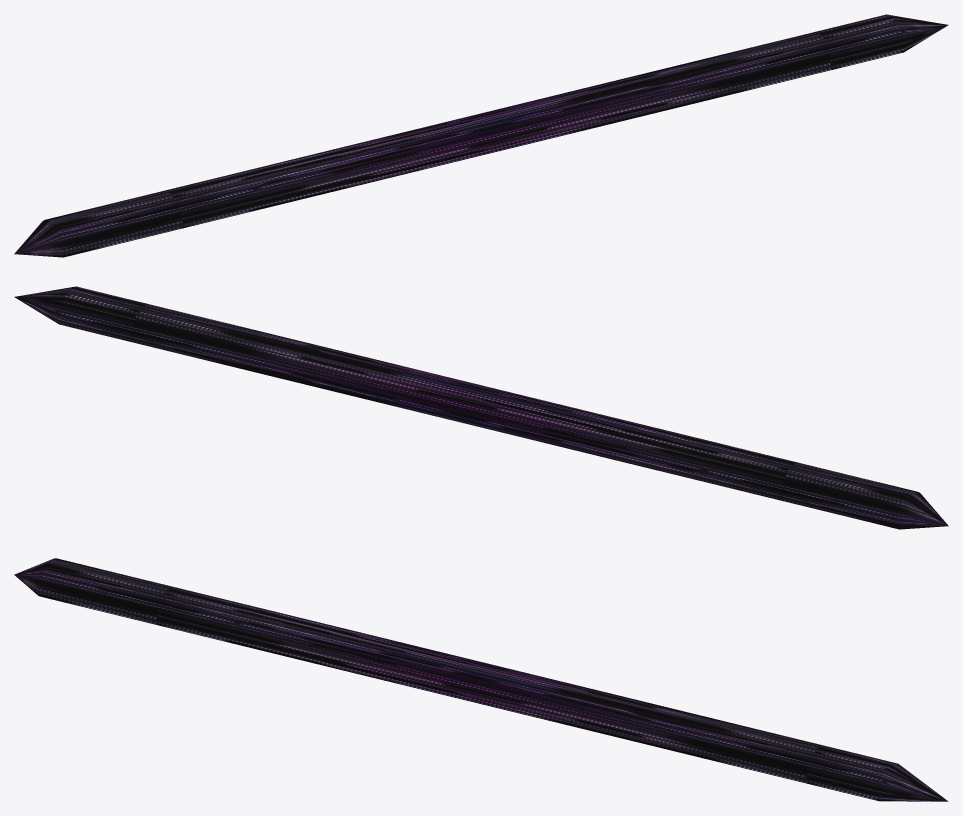
Rendered from tunnel.glb.
The picture shows the model from 3 angles, top to bottom: view 1: azimuth 30°, elevation 25°; view 2: azimuth 150°, elevation 25°; view 3: azimuth 330°, elevation 25°; orthographic projection.
Visible parts, largest first — view 1: tunnel; view 2: tunnel; view 3: tunnel.
Part boxes in pixels (left/top/right/bottom): tunnel: left=14, top=14, right=948, bottom=257; tunnel: left=14, top=286, right=948, bottom=529; tunnel: left=14, top=558, right=948, bottom=801.
Bounding box in the file's own units: 174 × 4.85 × 8.12.
1 material, 1 textured.
